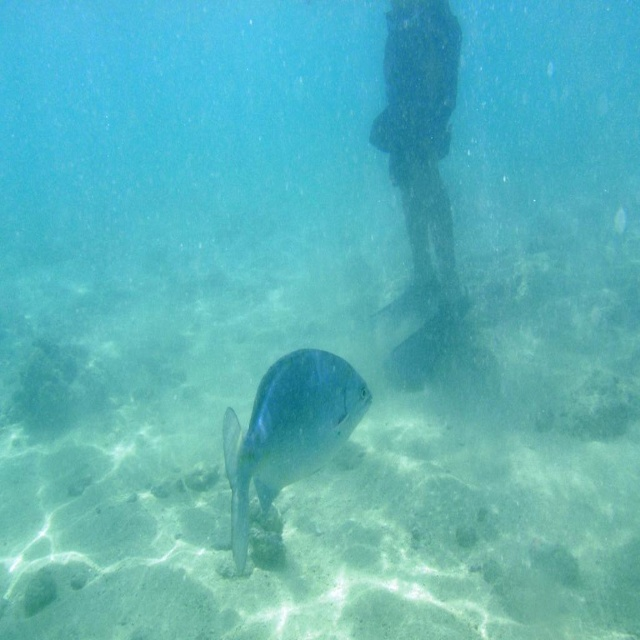Fish: (220, 346, 372, 577)
